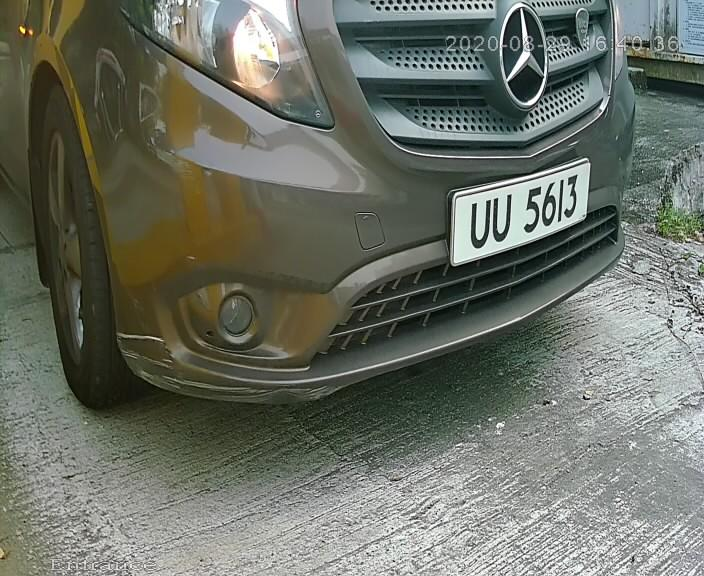License Plate: (409, 121, 608, 289)
